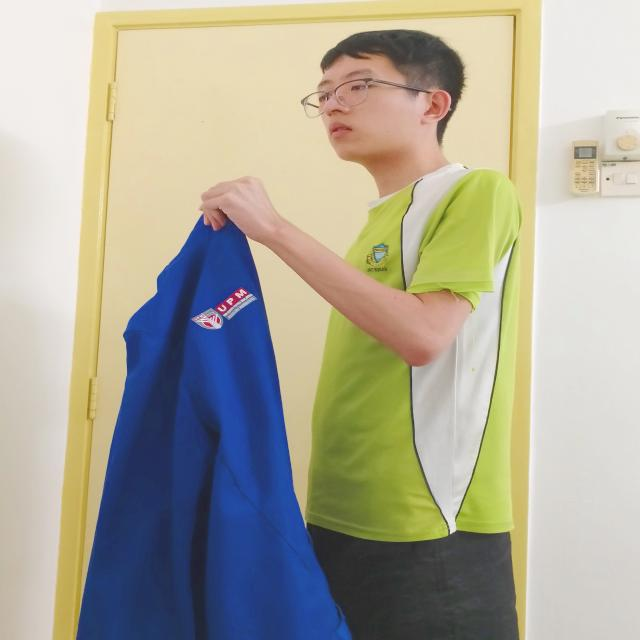person_without_labcoat: (78, 30, 520, 640)
